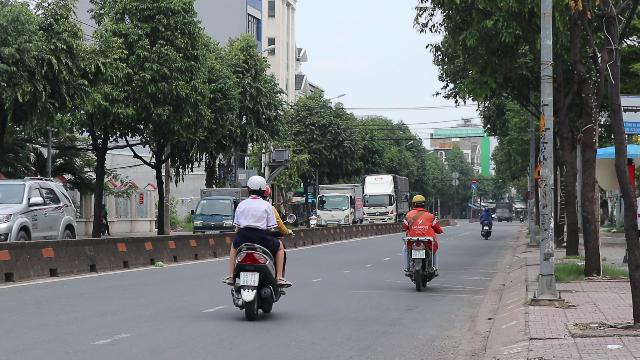helmet: (245, 175, 267, 197), (410, 194, 426, 208)
licenseplate: (240, 272, 258, 284), (412, 250, 424, 258)
motorcyclist: (220, 174, 292, 320), (401, 194, 442, 290)
